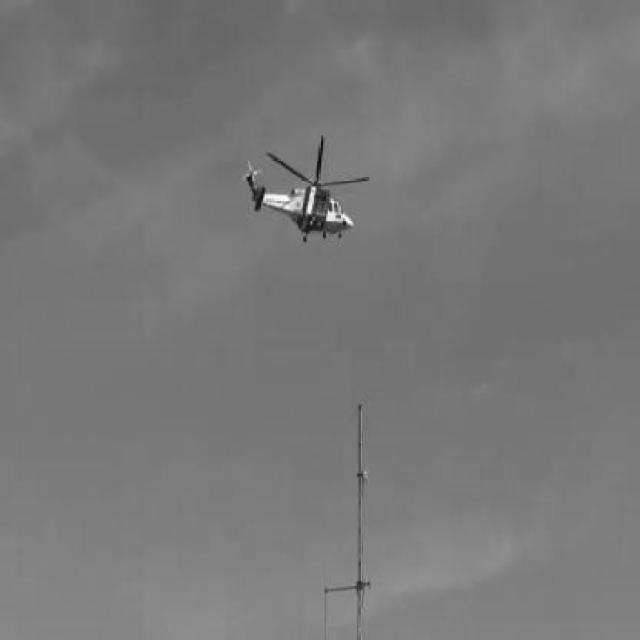helikopter: (244, 132, 368, 242)
